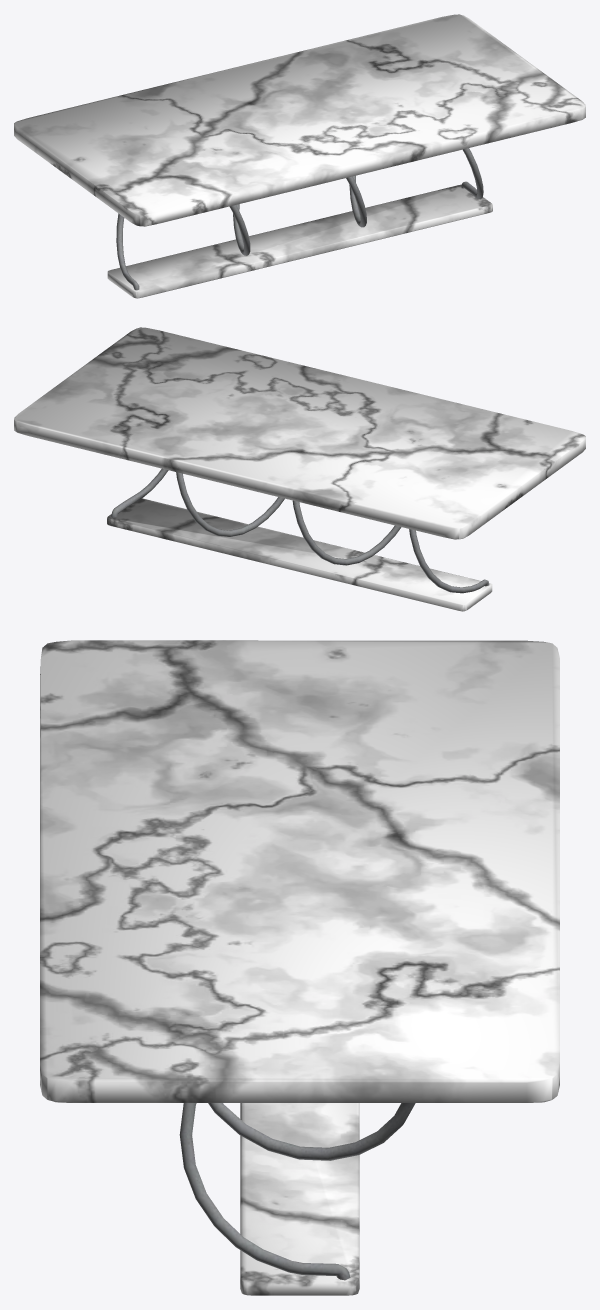
The model's file is table_003.glb.
3 renders of one model, top to bottom at view 1: azimuth 30°, elevation 25°; view 2: azimuth 150°, elevation 25°; view 3: azimuth 270°, elevation 25°, orthographic. The views are drawn at different scales.
Visible parts, largest first — view 1: Table_003; view 2: Table_003; view 3: Table_003.
Part boxes in pixels (x1,y1,x2,y2): Table_003: (14,14,585,298); Table_003: (14,327,585,611); Table_003: (40,640,559,1295).
Size of the model in its own units: 2 by 0.5488 by 0.9944.
Materials: 1 (1 with a texture image).
